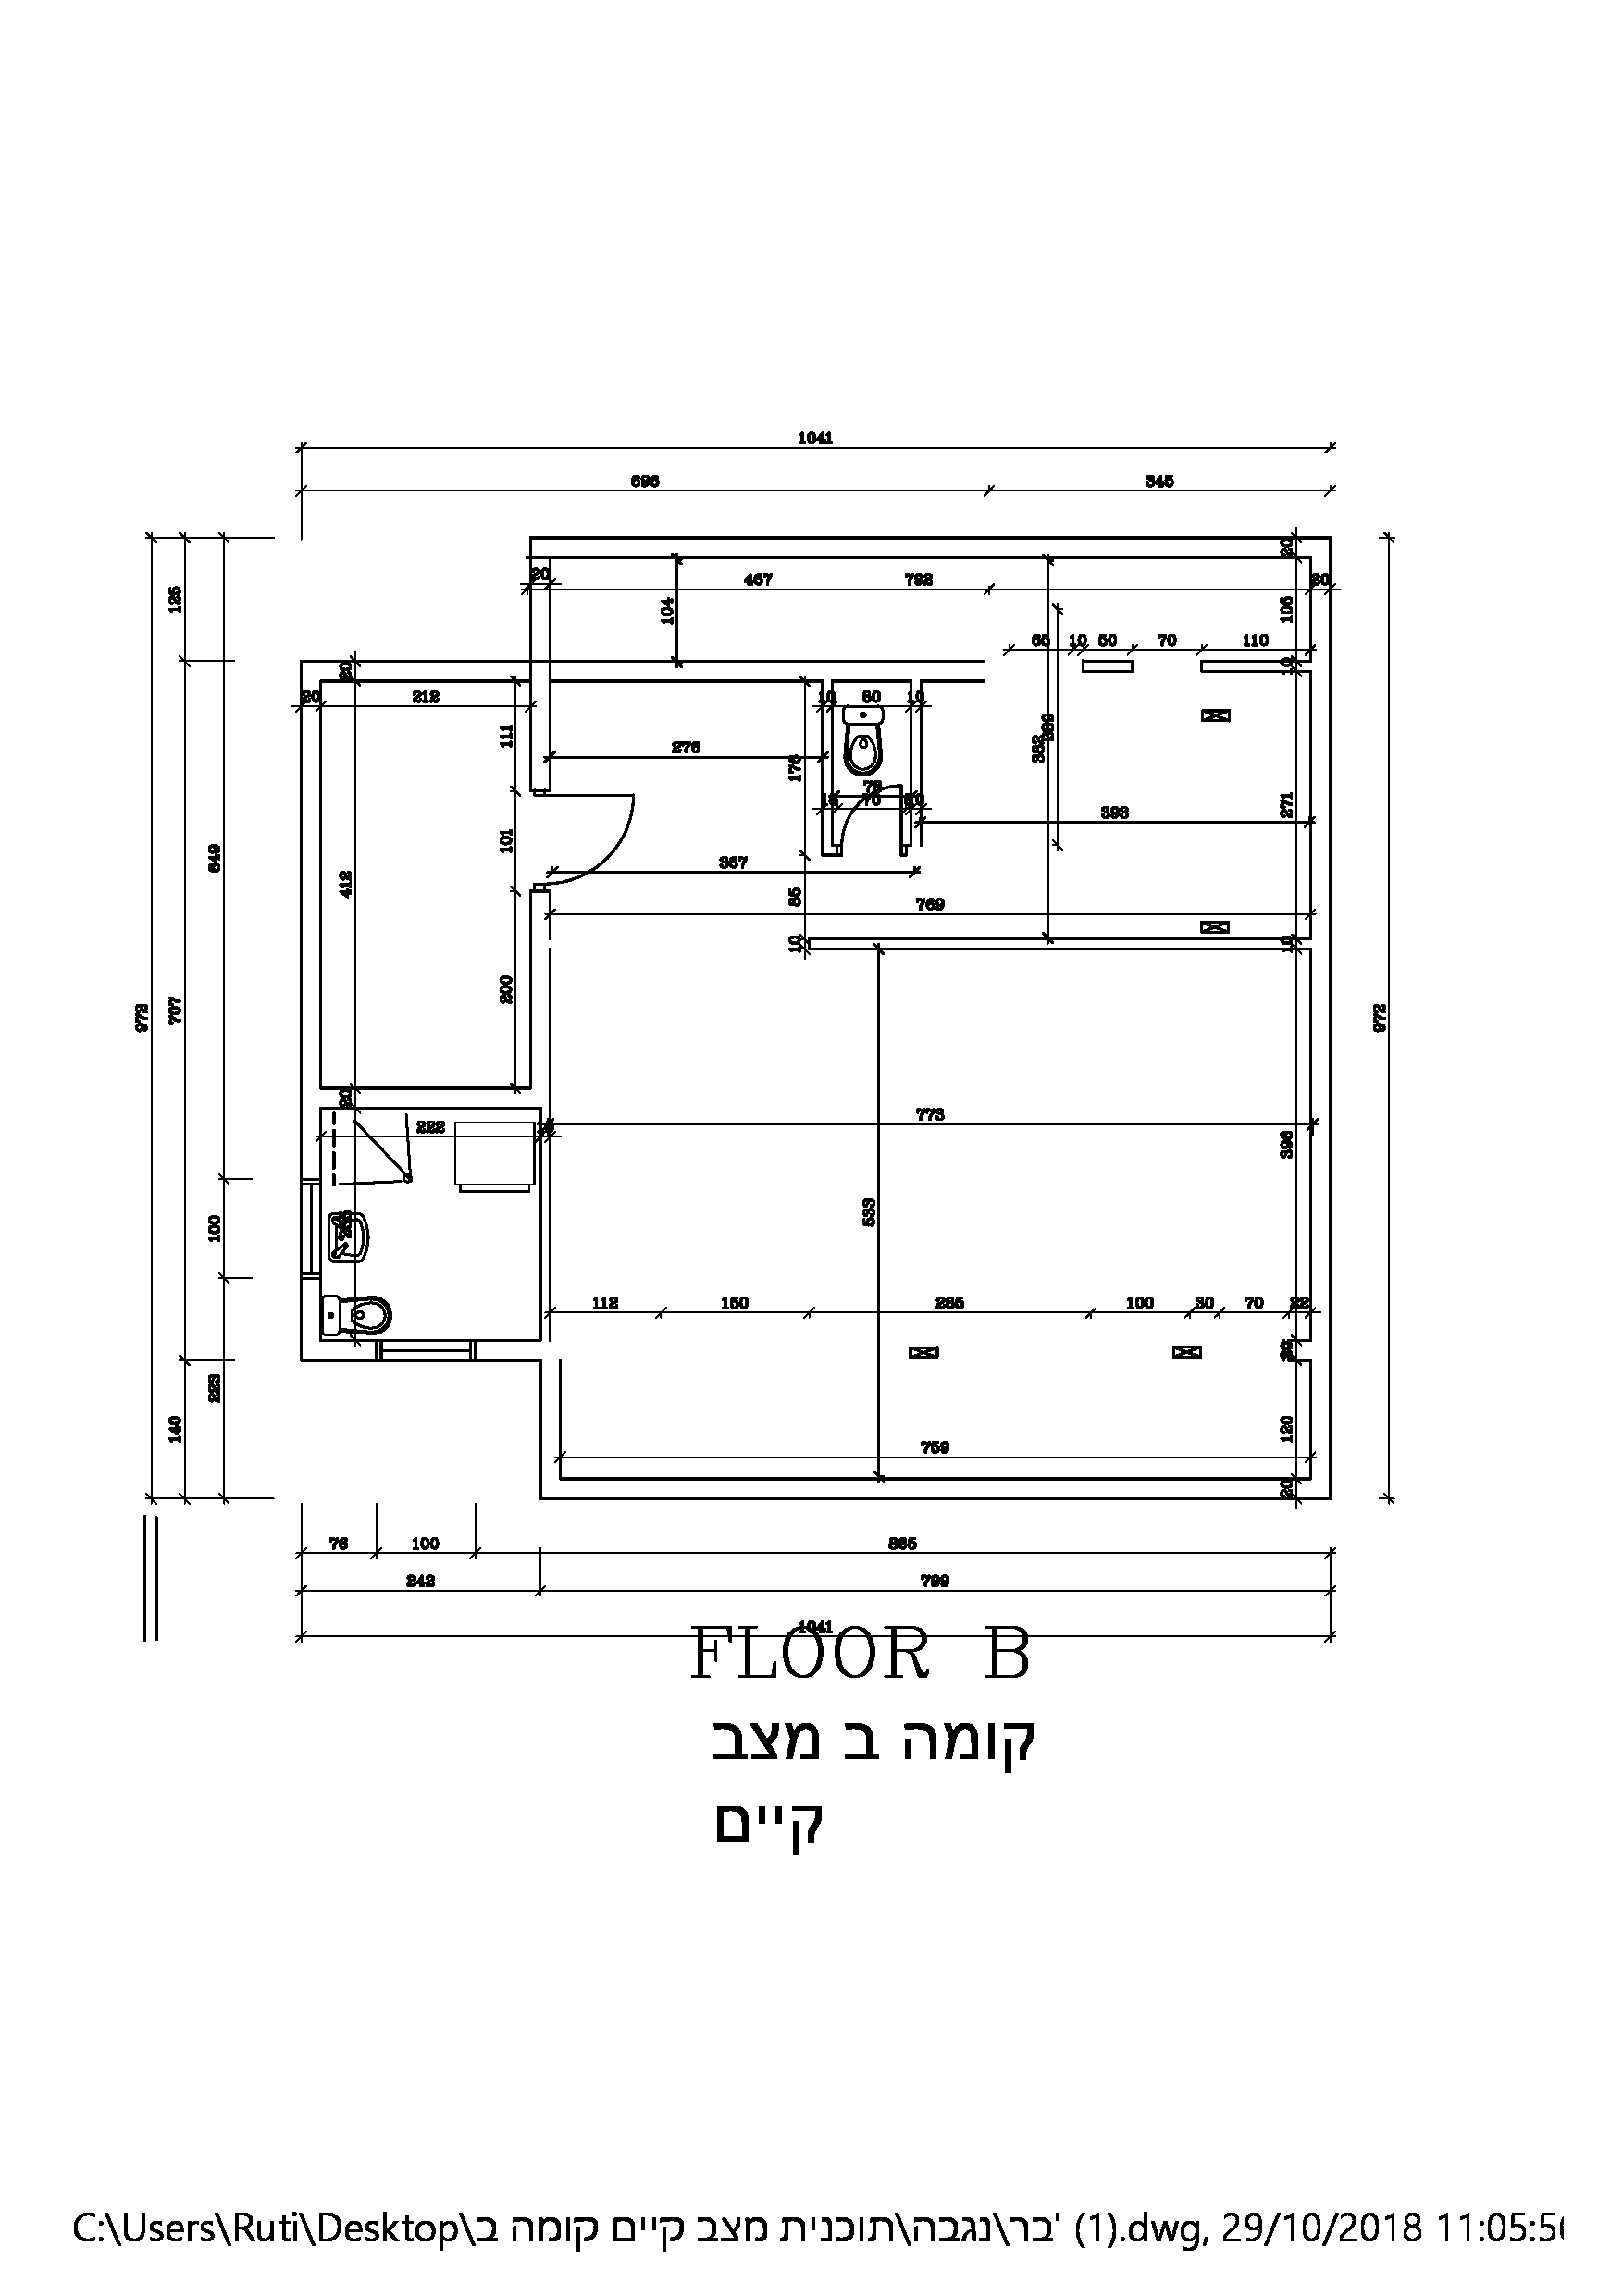door: (525, 791, 645, 894)
window: (367, 1332, 485, 1372), (292, 1168, 321, 1288)
